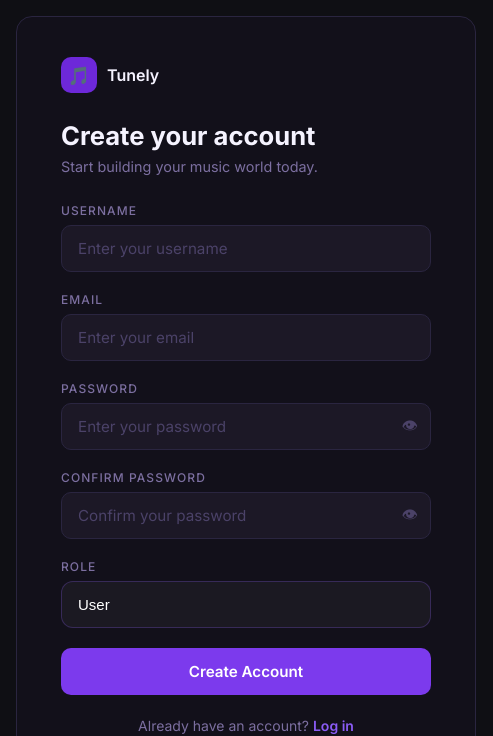
Test: Signup › shows validation error for empty username
The image size is (493, 736).
Click the button "Create Account".
click(246, 671)  # box [61,648,431,695]
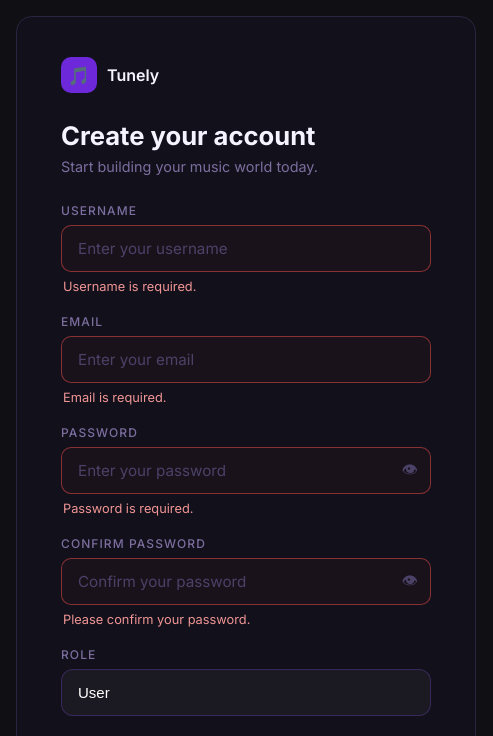
expect the text "Username is required." is shown: met, box [63,279,196,294]
